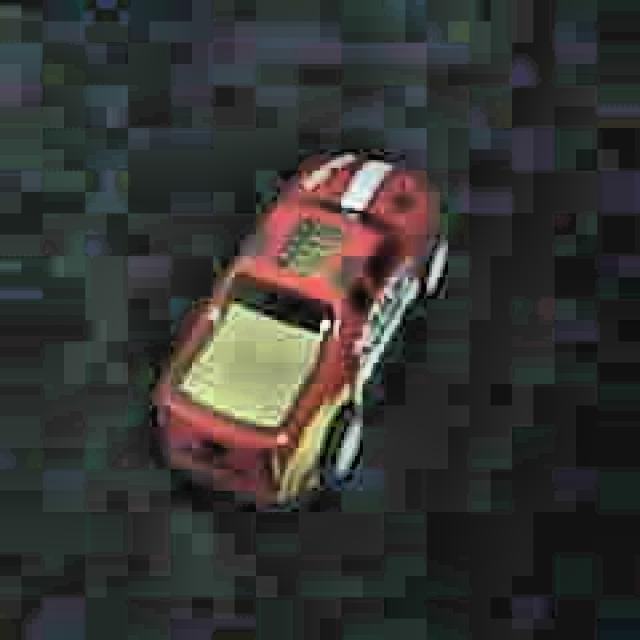car: (152, 127, 454, 516)
